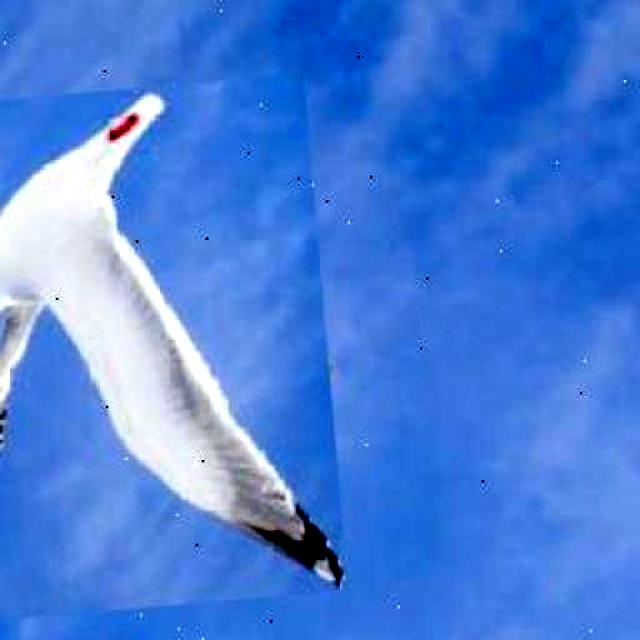airplane: (0, 74, 349, 624)
